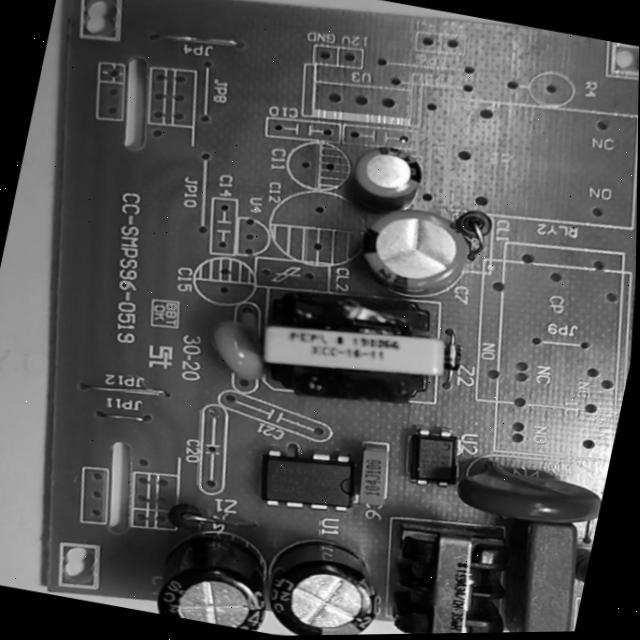Cap1: (325, 188, 506, 322)
Cap2: (332, 126, 449, 226)
Cap3: (241, 512, 402, 636)
Cap4: (133, 499, 301, 637)
MOSFET: (240, 430, 382, 529)
Mov: (443, 438, 609, 553)
Resistor: (559, 537, 593, 601)
Transformer: (236, 264, 471, 425), (367, 504, 533, 634)
